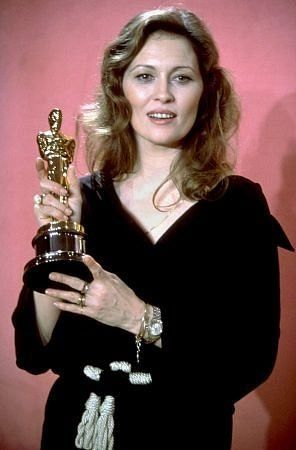hand: (53, 254, 134, 320)
